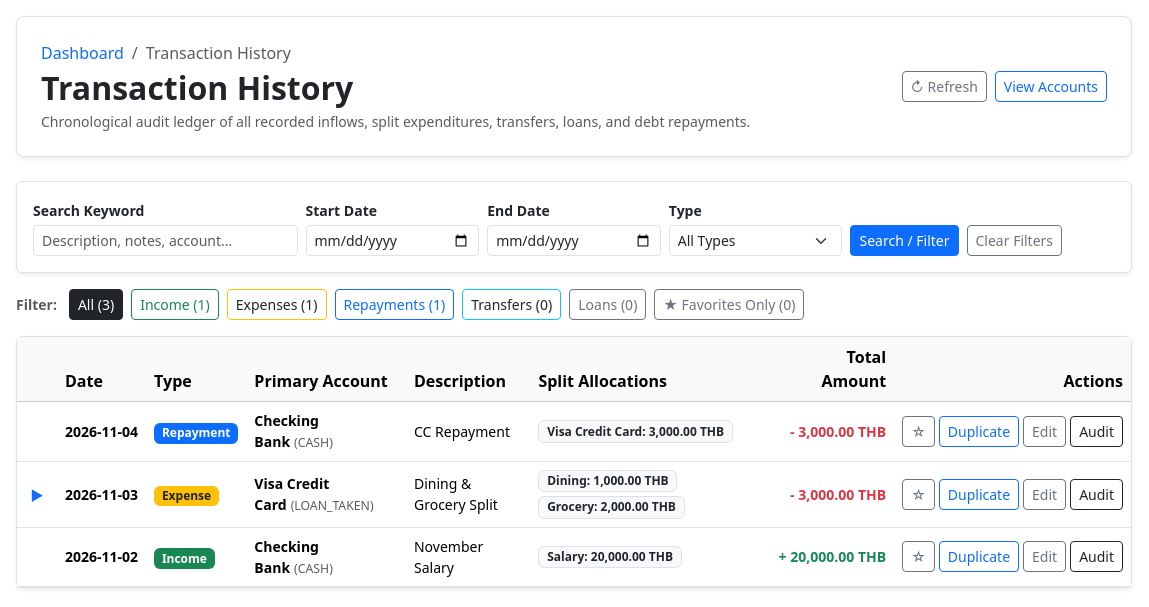
Scenario: Frontend Transaction History Suite (WP-06, Feature F-09, AC-09-1) › TEST-UI-HIST-02: filters transactions by type tab (Income, Expense, Repayment, All)
The width and height of the screenshot is (1149, 607).
Check: the table with test id "transactions-table" is shown, box top-left (17, 337), bottom-right (1131, 587)
Note: Click Income filter
Click the button with test id "filter-income".
click(175, 305)  # box top-left (131, 289), bottom-right (219, 320)
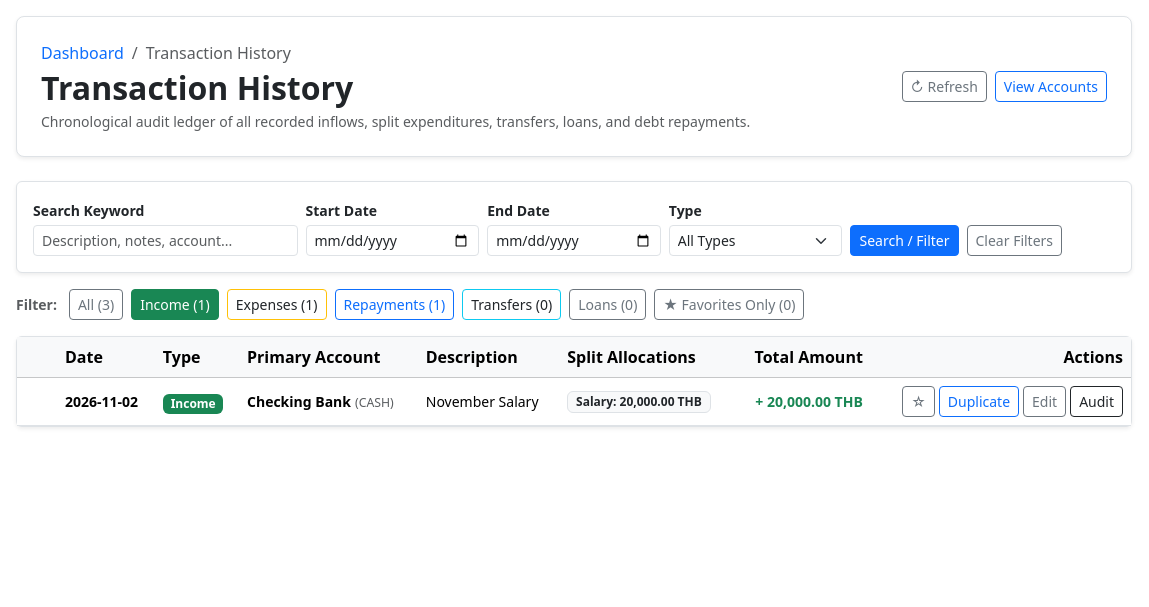
Check: the row with test id "txn-row-tx-salary" is shown, box top-left (17, 378), bottom-right (1131, 426)
Check: the row with test id "txn-row-tx-repay" is gone
Check: the row with test id "txn-row-tx-purchase" is gone
Note: Click Expense filter
Click the button with test id "filter-expense".
click(277, 305)  # box top-left (227, 289), bottom-right (326, 320)
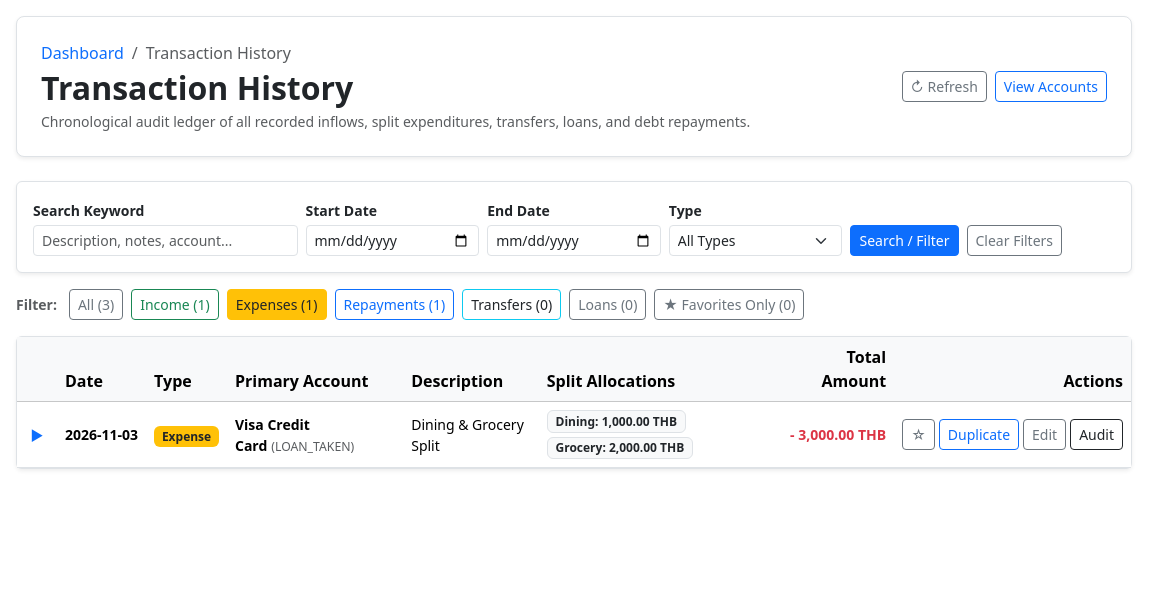
Check: the row with test id "txn-row-tx-purchase" is shown, box top-left (17, 402), bottom-right (1131, 468)
Check: the row with test id "txn-row-tx-salary" is gone
Note: Click All filter
Click the button with test id "filter-all".
click(96, 305)  # box top-left (69, 289), bottom-right (123, 320)
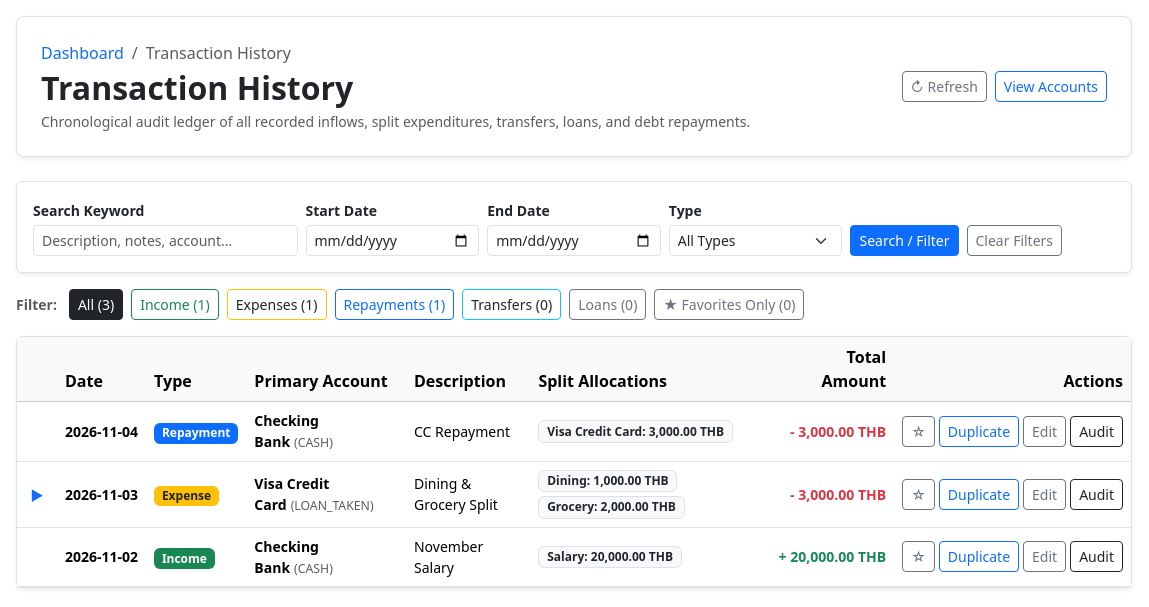
Check: the row with test id "txn-row-tx-purchase" is shown, box top-left (17, 461), bottom-right (1131, 527)
Check: the row with test id "txn-row-tx-repay" is shown, box top-left (17, 402), bottom-right (1131, 461)
Check: the row with test id "txn-row-tx-salary" is shown, box top-left (17, 527), bottom-right (1131, 586)
